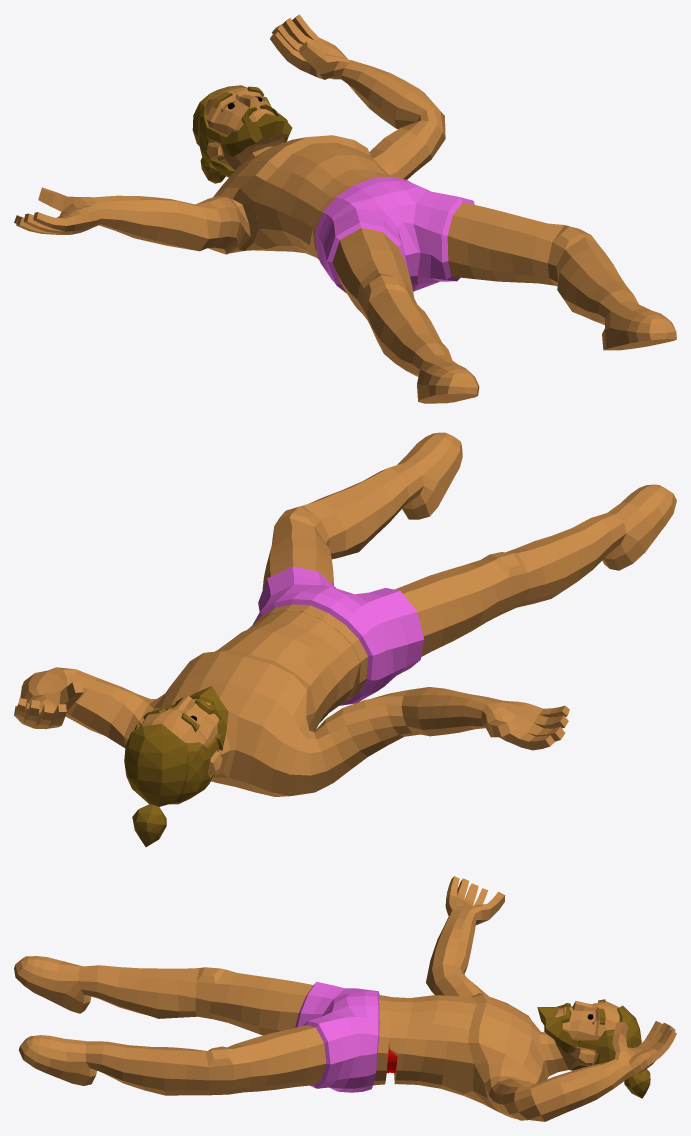
Rendered from BodySliced.fbx.
3 renders of one model, top to bottom at view 1: azimuth 30°, elevation 25°; view 2: azimuth 150°, elevation 25°; view 3: azimuth 270°, elevation 25°, orthographic. The views are drawn at different scales.
Visible parts, largest first — view 1: Body_Legs, Body_Arms, Body_Chest, Underwear, Body_Hands, Body_Feet, Body_Head, Hair7, Beard6; view 2: Body_Legs, Body_Chest, Body_Arms, Underwear, Body_Feet, Hair7, Body_Hands, Body_Head, Body_Chest.001, Body_Neck, Beard6; view 3: Body_Legs, Body_Chest, Body_Arms, Underwear, Body_Feet, Body_Hands, Body_Head, Hair7, Body_Chest.001, Body_Neck, Beard6.
Boxes of the visible parts, bbox=[...] form: Body_Legs: bbox=[332, 202, 638, 376]; Body_Arms: bbox=[94, 60, 445, 254]; Body_Chest: bbox=[215, 135, 391, 259]; Underwear: bbox=[314, 176, 474, 293]; Body_Hands: bbox=[14, 14, 350, 234]; Body_Feet: bbox=[417, 301, 676, 403]; Body_Head: bbox=[206, 87, 284, 170]; Hair7: bbox=[192, 85, 271, 183]; Beard6: bbox=[220, 113, 292, 156]; Body_Legs: bbox=[262, 462, 626, 656]; Body_Chest: bbox=[152, 611, 360, 796]; Body_Arms: bbox=[20, 667, 502, 795]; Underwear: bbox=[252, 566, 424, 705]; Body_Feet: bbox=[397, 432, 676, 570]; Hair7: bbox=[124, 724, 218, 846]; Body_Hands: bbox=[14, 681, 569, 750]; Body_Head: bbox=[139, 696, 222, 775]; Body_Chest.001: bbox=[256, 604, 367, 701]; Body_Neck: bbox=[213, 712, 238, 777]; Beard6: bbox=[169, 686, 228, 750]; Body_Legs: bbox=[78, 965, 326, 1095]; Body_Chest: bbox=[389, 993, 545, 1107]; Body_Arms: bbox=[426, 909, 628, 1121]; Underwear: bbox=[295, 981, 379, 1092]; Body_Feet: bbox=[14, 956, 96, 1085]; Body_Hands: bbox=[445, 876, 676, 1077]; Body_Head: bbox=[555, 1001, 619, 1070]; Hair7: bbox=[572, 1005, 650, 1098]; Body_Chest.001: bbox=[373, 995, 390, 1085]; Body_Neck: bbox=[530, 1021, 568, 1079]; Beard6: bbox=[537, 1006, 579, 1053].
Bounding box in the file's own units: 14489 × 3894 × 21255.
